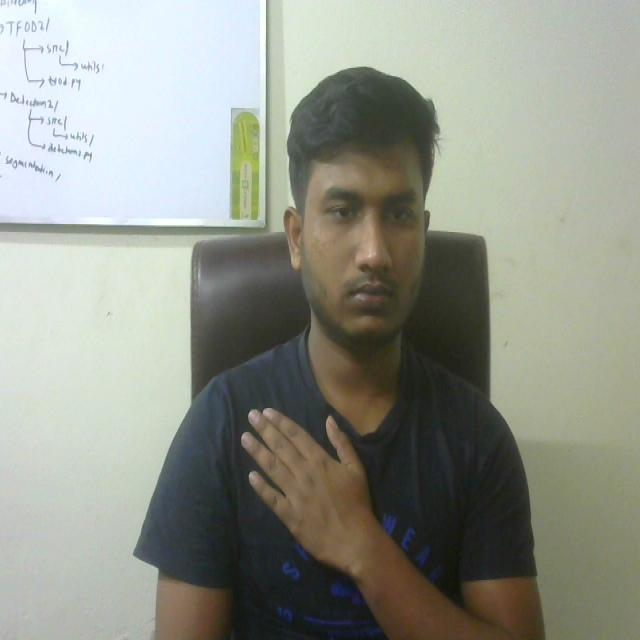Please: (230, 392, 393, 598)
